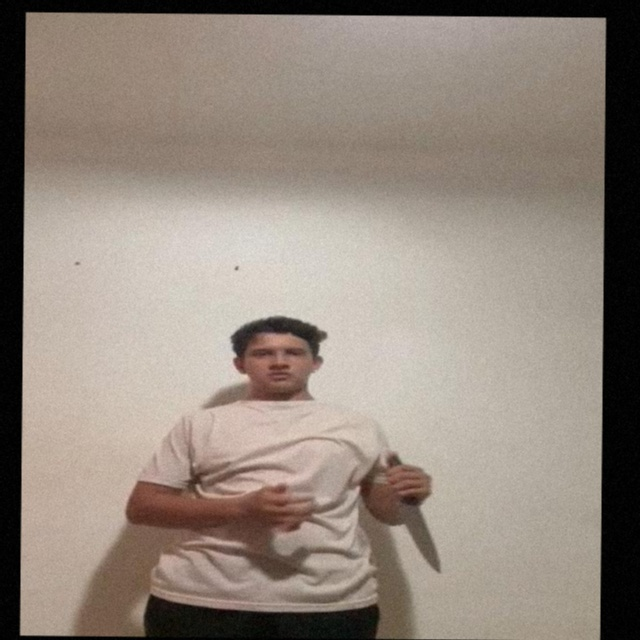Sharp-Object: (397, 498, 442, 572)
